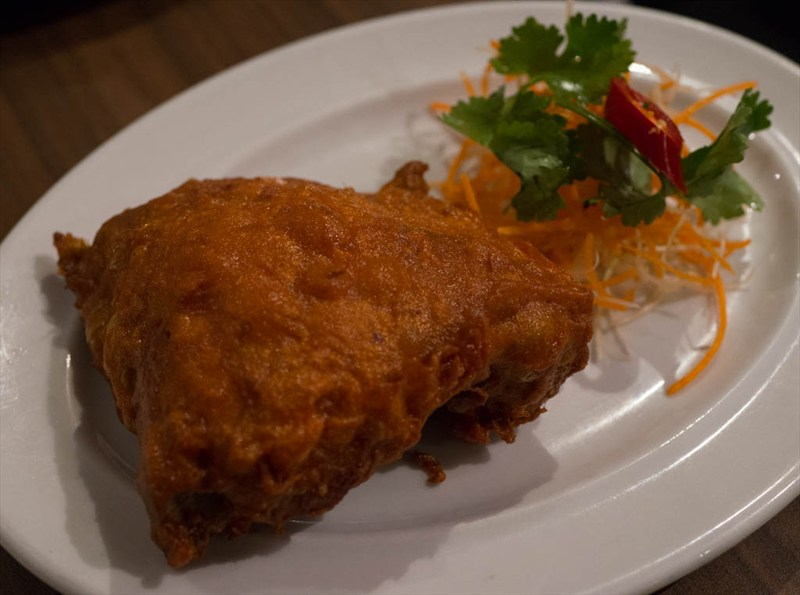Ayam Goreng: (102, 49, 723, 482)
